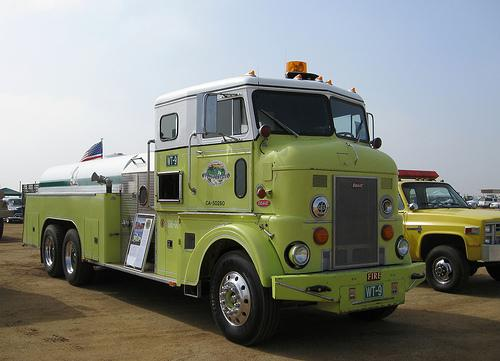truck: (21, 60, 427, 348)
